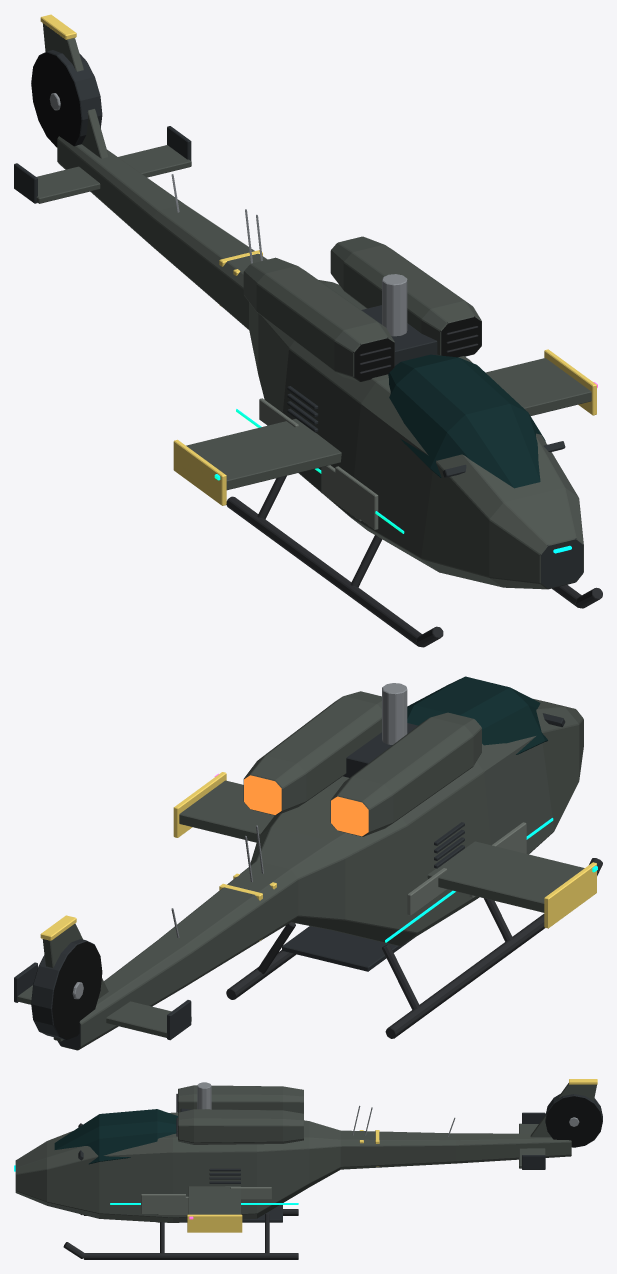
The model's file is Chassis_Gunship.fbx.
The picture shows the model from 3 angles, top to bottom: view 1: azimuth 30°, elevation 25°; view 2: azimuth 150°, elevation 25°; view 3: azimuth 270°, elevation 25°; orthographic projection. The views are drawn at different scales.
Parts seen in each view (by area): view 1: Chassis_Gunship; view 2: Chassis_Gunship; view 3: Chassis_Gunship.
Boxes of the visible parts, left/top/right/bottom form: Chassis_Gunship: left=14, top=14, right=602, bottom=647; Chassis_Gunship: left=14, top=676, right=602, bottom=1050; Chassis_Gunship: left=14, top=1079, right=602, bottom=1259.
Size of the model in its own units: 4.72 by 3.31 by 11.23.
